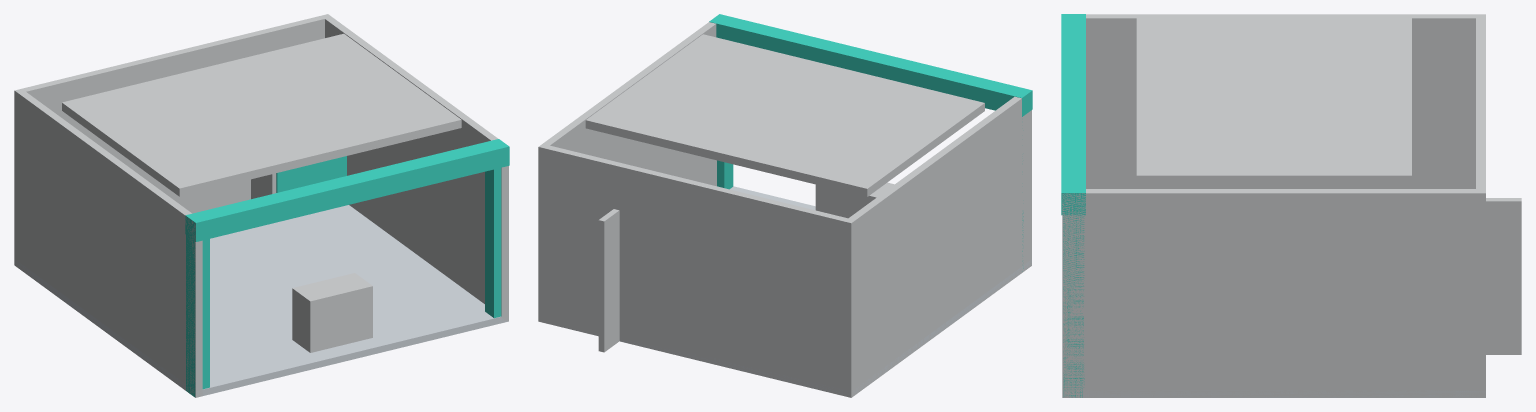
The picture shows the model from 3 angles, left to right: view 1: azimuth 30°, elevation 25°; view 2: azimuth 150°, elevation 25°; view 3: azimuth 270°, elevation 25°; orthographic projection. The views are drawn at different scales.
Visible parts, largest first — view 1: Exhibition Booth Concept; view 2: Exhibition Booth Concept; view 3: Exhibition Booth Concept.
Boxes of the visible parts, box(x1,y1,x2,y2) form: Exhibition Booth Concept: box(14, 14, 509, 397); Exhibition Booth Concept: box(538, 14, 1032, 397); Exhibition Booth Concept: box(1061, 14, 1521, 397).
Size of the model in its own units: 6 by 3.34 by 6.52.
